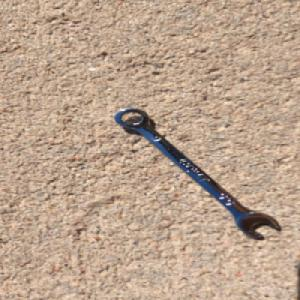Wrench: (112, 107, 282, 238)
